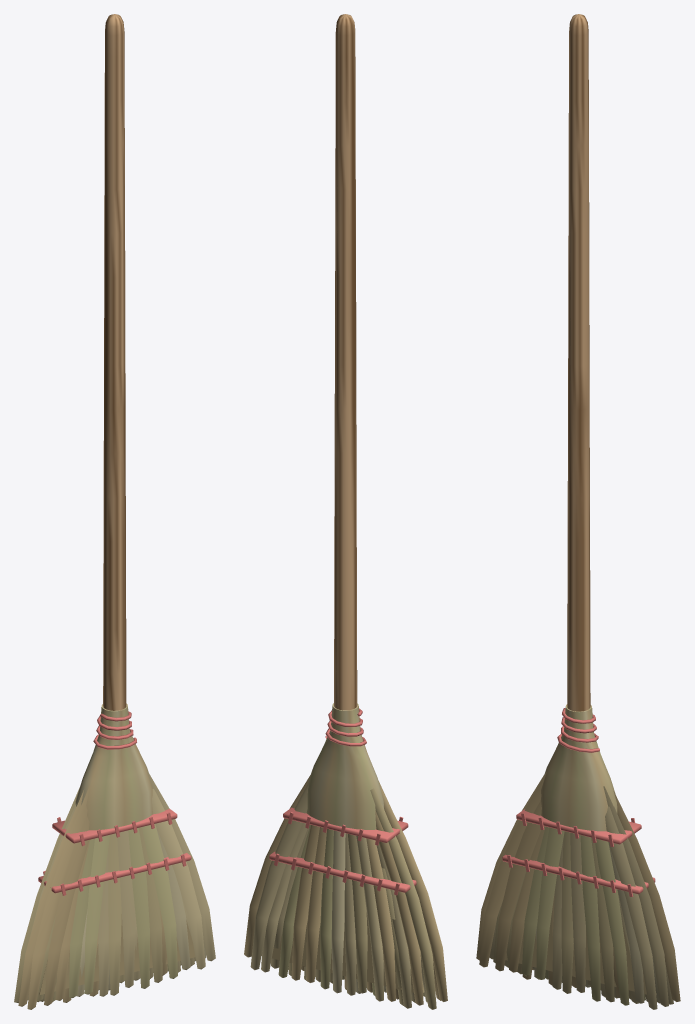
The model's file is broom.glb.
3 views of the same model, side by side, from view 1: azimuth 30°, elevation 25°; view 2: azimuth 150°, elevation 25°; view 3: azimuth 330°, elevation 25° (orthographic).
Visible parts, largest first — view 1: broom; view 2: broom; view 3: broom.
Boxes of the visible parts, box(x1,y1,x2,y2) form: broom: box(14, 14, 215, 1009); broom: box(244, 14, 447, 1009); broom: box(476, 14, 680, 1009).
Bounding box in the file's own units: 0.2839 × 1.33 × 0.0576.
